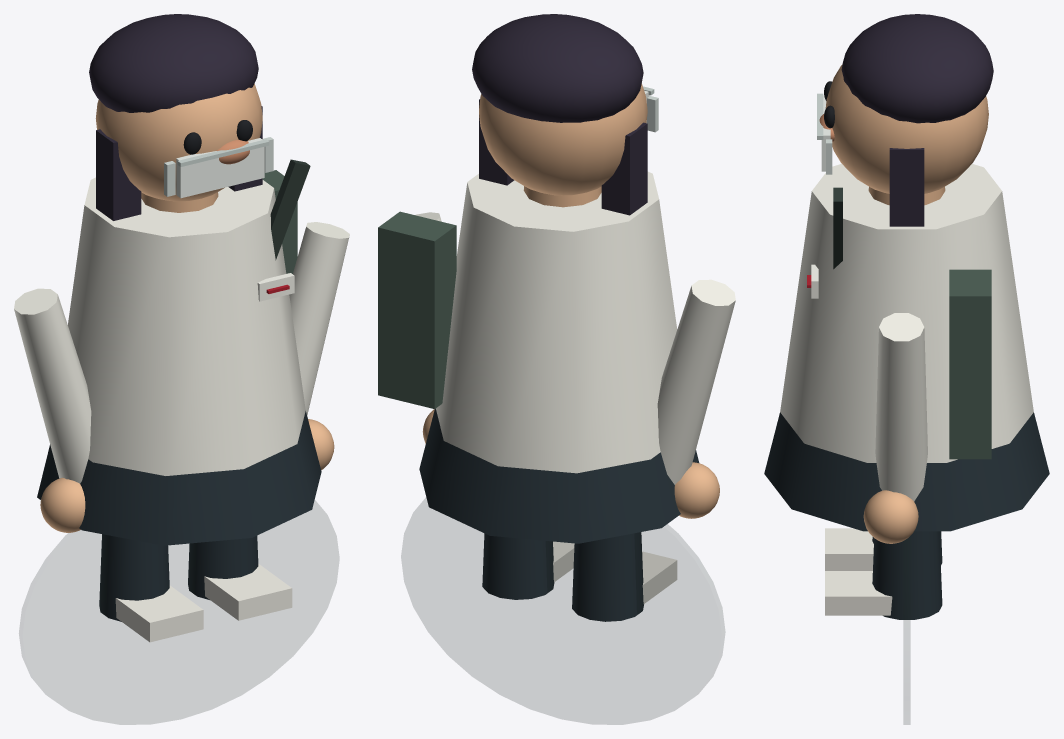
File: player_female_white_mask.glb
3 views of the same model, side by side, from view 1: azimuth 30°, elevation 25°; view 2: azimuth 150°, elevation 25°; view 3: azimuth 270°, elevation 25° (orthographic). The views are drawn at different scales.
Parts seen in each view (by area): view 1: torso, contact_shadow, skirt, hair_cap, head, arm_-0.255, arm_0.255, leg_-0.095, shoe_0.095, shoe_-0.095, leg_0.095, medical_mask (+8 smaller); view 2: torso, contact_shadow, skirt, hair_cap, shoulder_bag, head, arm_-0.255, leg_-0.095, leg_0.095, side_hair_-0.13, hand_-0.255, shoe_-0.095 (+3 smaller); view 3: torso, skirt, hair_cap, head, arm_0.255, shoulder_bag, leg_0.095, side_hair_0.13, shoe_0.095, hand_0.255, shoe_-0.095, contact_shadow (+1 smaller).
Boxes of the visible parts, x1,y1,x2,y2 form: torso: [68, 177, 305, 475]; contact_shadow: [19, 501, 338, 724]; skirt: [37, 411, 321, 545]; hair_cap: [89, 14, 258, 112]; head: [95, 84, 262, 201]; arm_-0.255: [14, 288, 91, 483]; arm_0.255: [289, 222, 349, 415]; leg_-0.095: [99, 534, 169, 621]; shoe_0.095: [204, 563, 292, 620]; shoe_-0.095: [115, 585, 203, 642]; leg_0.095: [188, 536, 258, 599]; medical_mask: [176, 138, 264, 198]; torso: [436, 171, 677, 473]; contact_shadow: [401, 498, 724, 724]; skirt: [419, 408, 699, 543]; hair_cap: [472, 14, 643, 122]; shoulder_bag: [378, 211, 456, 408]; head: [479, 83, 647, 195]; arm_-0.255: [657, 279, 735, 484]; leg_-0.095: [572, 532, 643, 621]; leg_0.095: [482, 533, 554, 599]; side_hair_-0.13: [601, 122, 647, 215]; hand_-0.255: [674, 462, 719, 518]; shoe_-0.095: [642, 551, 677, 603]; torso: [780, 164, 1033, 462]; skirt: [764, 412, 1049, 531]; hair_cap: [841, 14, 993, 123]; head: [825, 64, 988, 193]; arm_0.255: [875, 313, 927, 501]; shoulder_bag: [949, 269, 991, 459]; leg_0.095: [872, 531, 942, 619]; side_hair_0.13: [889, 148, 924, 226]; shoe_0.095: [825, 571, 892, 615]; hand_0.255: [863, 490, 918, 543]; shoe_-0.095: [825, 528, 873, 570]; contact_shadow: [904, 537, 909, 724].
Bounding box in the file's own units: 0.6906 × 1.38 × 0.5292.
